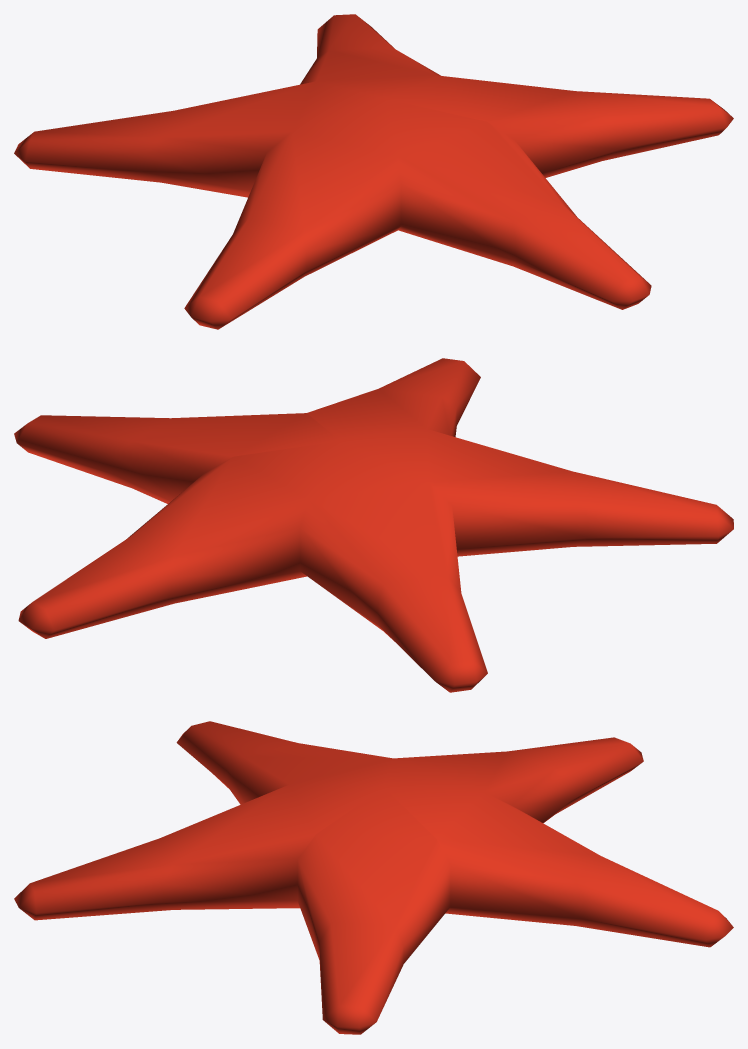
The model's file is Starfish 1.fbx.
3 renders of one model, top to bottom at view 1: azimuth 30°, elevation 25°; view 2: azimuth 150°, elevation 25°; view 3: azimuth 270°, elevation 25°, orthographic. The views are drawn at different scales.
Parts seen in each view (by area): view 1: Cylinder013; view 2: Cylinder013; view 3: Cylinder013.
Part boxes in pixels (<box>): Cylinder013: <box>14,14,733,329</box>; Cylinder013: <box>14,358,733,692</box>; Cylinder013: <box>14,721,733,1034</box>.
Bounding box in the file's own units: 24.5 × 3.66 × 24.99.
